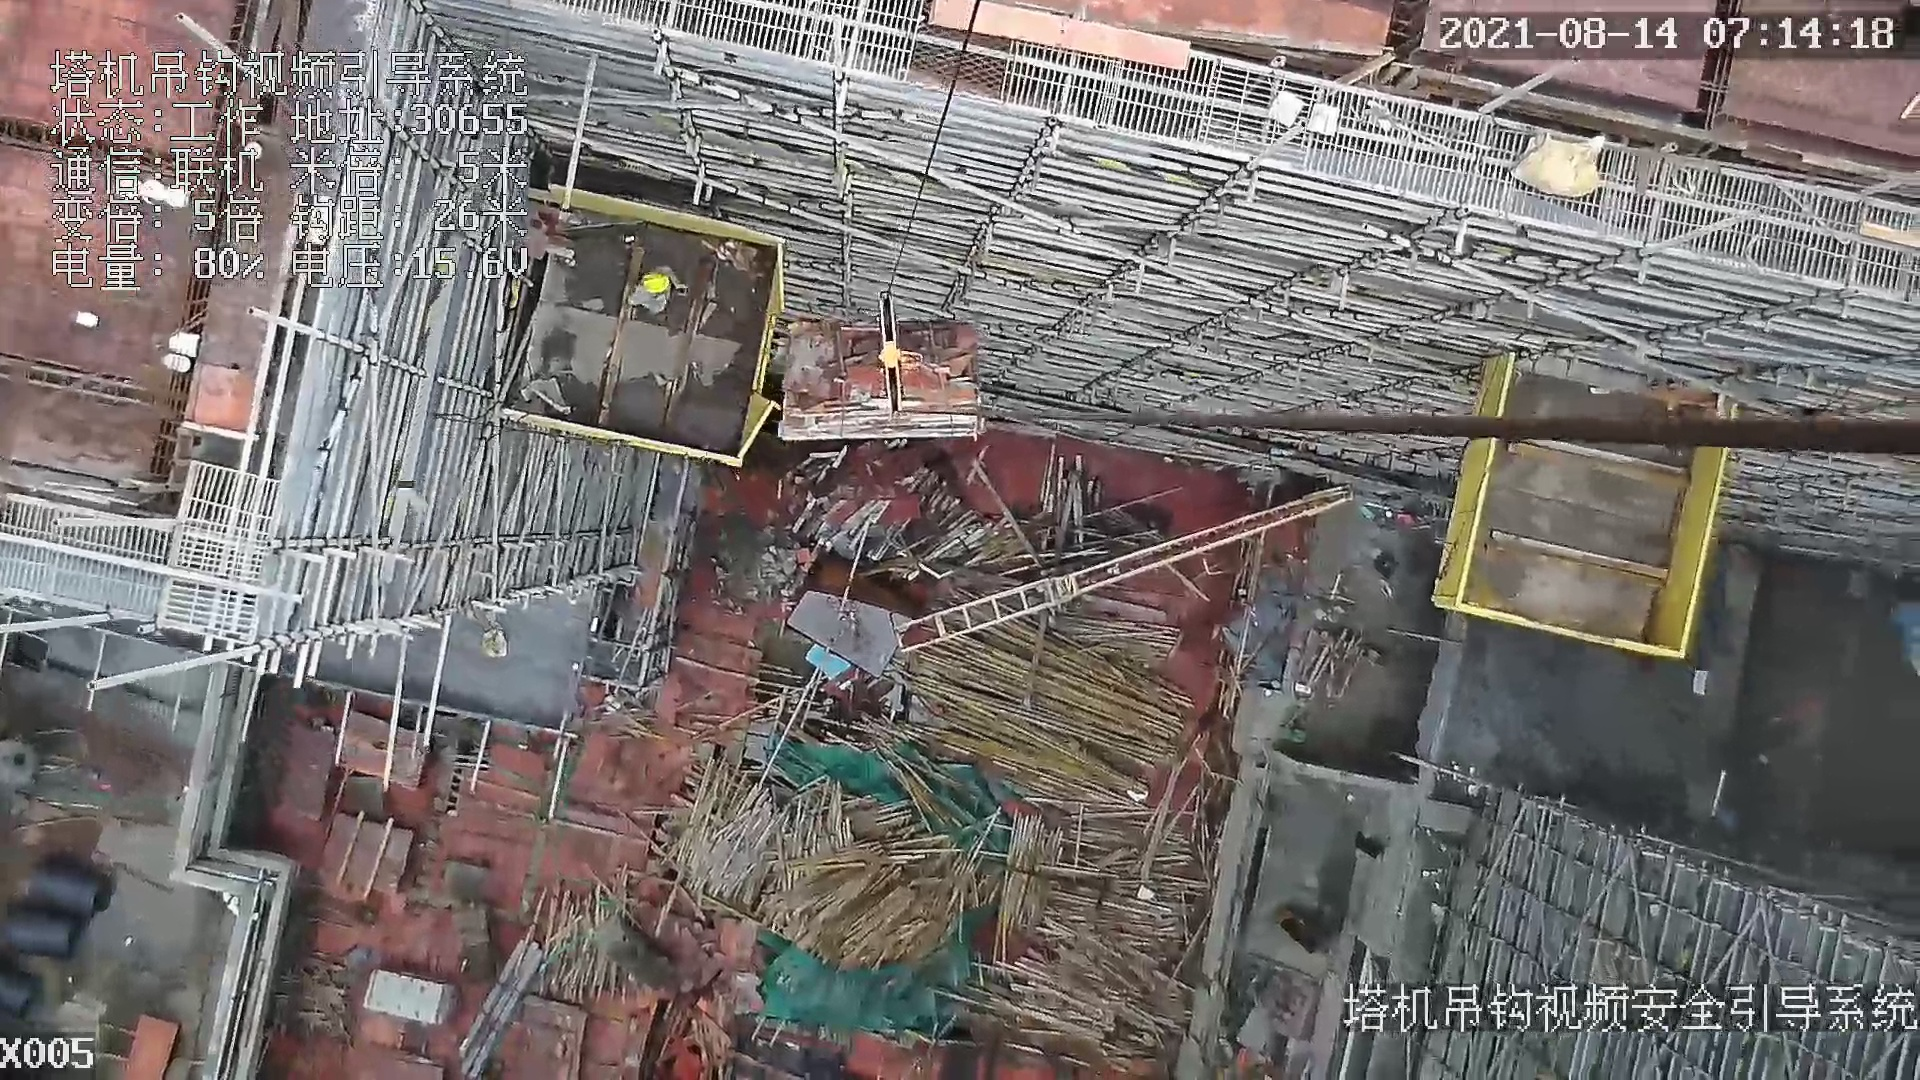helmet: (640, 264, 674, 302)
hook: (870, 286, 923, 414)
person: (613, 268, 691, 317)
